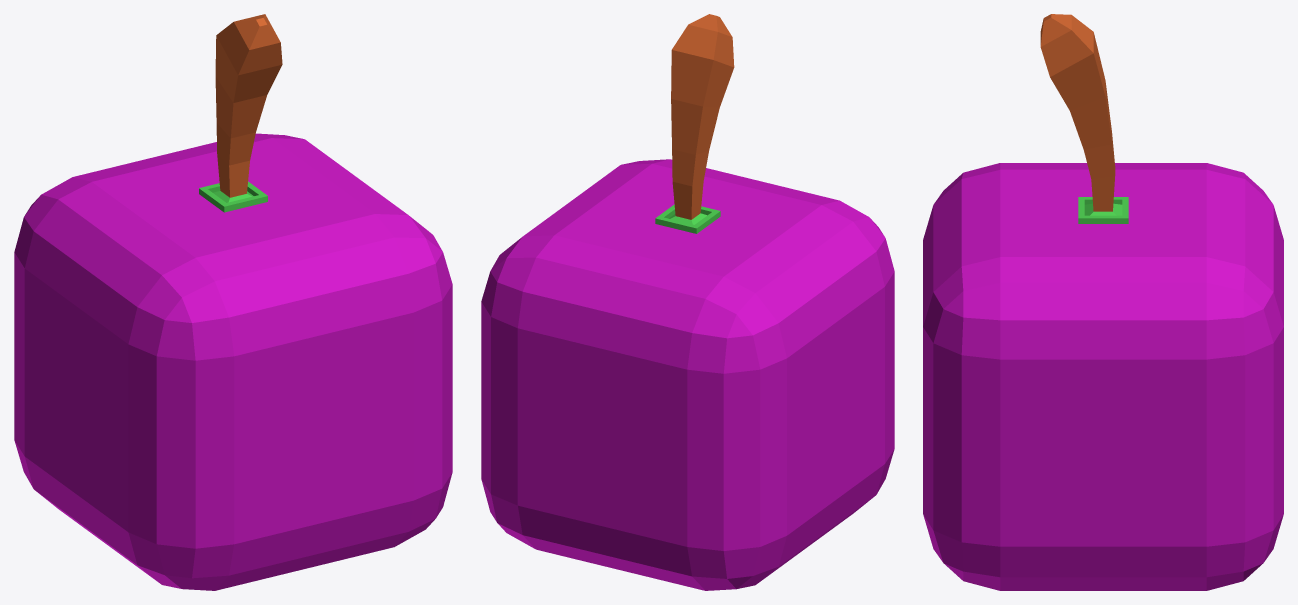
The model's file is finalgrapetrial2v1.fbx.
The picture shows the model from 3 angles, left to right: view 1: azimuth 30°, elevation 25°; view 2: azimuth 150°, elevation 25°; view 3: azimuth 270°, elevation 25°; orthographic projection. The views are drawn at different scales.
Visible parts, largest first — view 1: Cube; view 2: Cube; view 3: Cube.
Boxes of the visible parts, x1,y1,x2,y2 form: Cube: [14, 14, 452, 590]; Cube: [481, 14, 894, 590]; Cube: [923, 14, 1283, 590].
Bounding box in the file's own units: 200 × 321 × 200.
